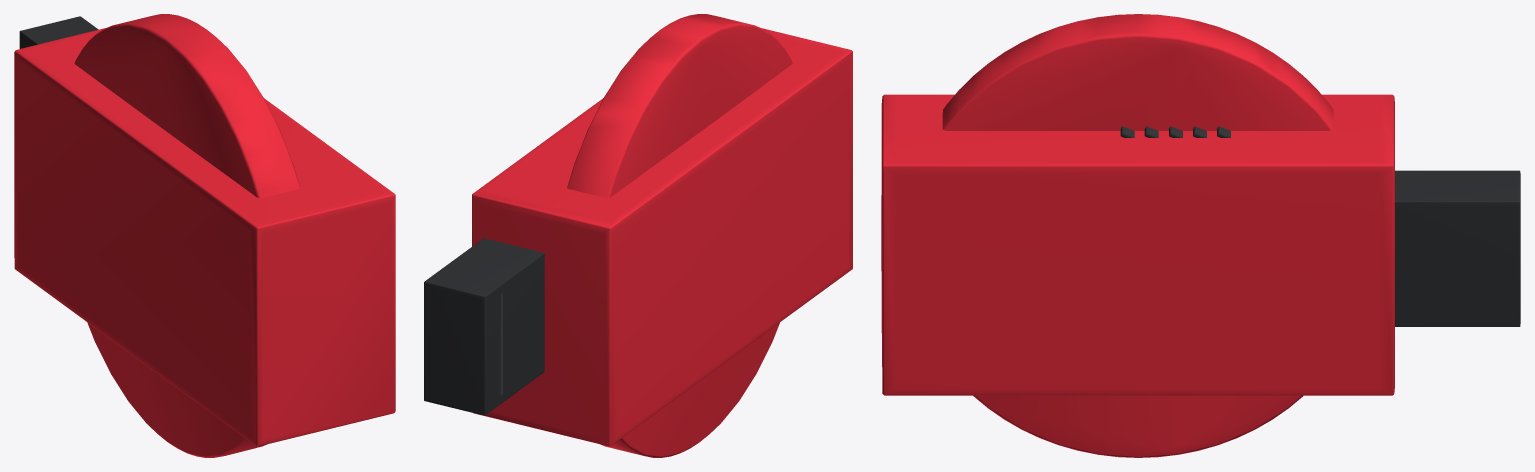
The model's file is hypercar_rear_haunch_left.glb.
3 views of the same model, side by side, from view 1: azimuth 30°, elevation 25°; view 2: azimuth 150°, elevation 25°; view 3: azimuth 270°, elevation 25° (orthographic). The views are drawn at different scales.
Parts seen in each view (by area): view 1: Haunch_Panel_Left, Scoop_Duct_Left; view 2: Haunch_Panel_Left, Scoop_Duct_Left; view 3: Haunch_Panel_Left, Scoop_Duct_Left.
Part boxes in pixels (x1,y1,x2,y2): Haunch_Panel_Left: (14,14,395,457); Scoop_Duct_Left: (19,16,98,48); Haunch_Panel_Left: (472,14,852,457); Scoop_Duct_Left: (424,238,544,415); Haunch_Panel_Left: (881,14,1394,457); Scoop_Duct_Left: (1395,170,1520,326).
Bounding box in the file's own units: 0.3188 × 0.8742 × 1.19.
